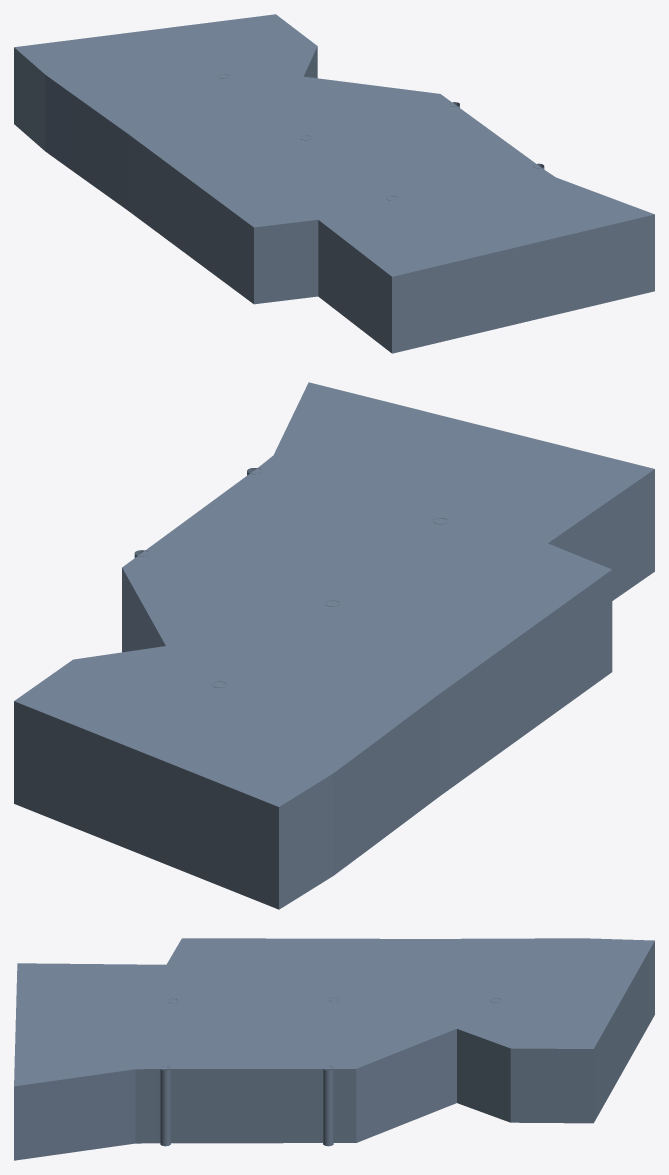
Rendered from SM_3DRoomScan.fbx.
3 renders of one model, top to bottom at view 1: azimuth 30°, elevation 25°; view 2: azimuth 150°, elevation 25°; view 3: azimuth 270°, elevation 25°, orthographic. The views are drawn at different scales.
Parts seen in each view (by area): view 1: Ceiling, Walls_play_area; view 2: Ceiling, Walls_play_area; view 3: Ceiling, Walls_play_area, Rest.
Part boxes in pixels (x1,y1,x2,y2): Ceiling: (14, 14, 654, 276); Walls_play_area: (14, 46, 654, 353); Ceiling: (14, 382, 654, 806); Walls_play_area: (14, 469, 654, 909); Ceiling: (14, 938, 654, 1086); Walls_play_area: (14, 941, 654, 1160); Rest: (160, 1066, 333, 1146).
Size of the model in its own units: 1499 by 356 by 2740.
